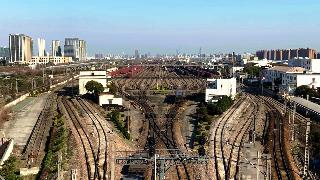train: (128, 152, 151, 173), (175, 89, 183, 103)
